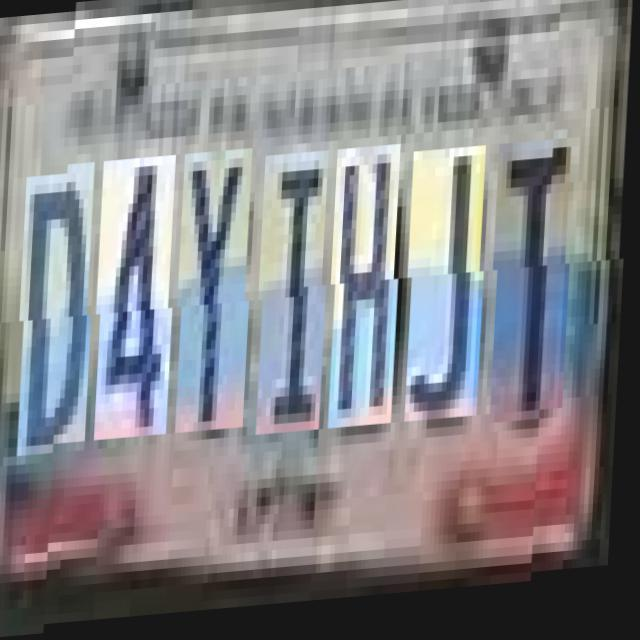4: (99, 158, 182, 443)
D: (22, 164, 102, 448)
H: (333, 151, 407, 435)
I: (261, 157, 335, 440)
J: (410, 154, 492, 430)
T: (495, 148, 578, 433)
Y: (180, 153, 259, 437)
